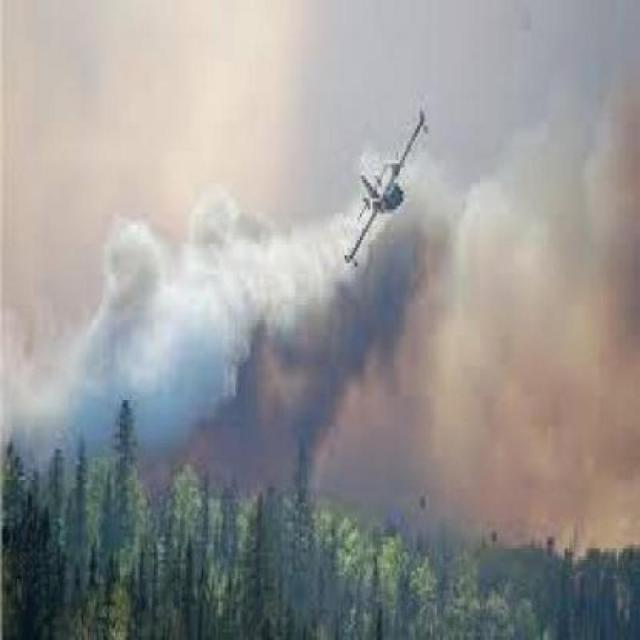Smoke: (410, 312, 640, 560), (105, 269, 328, 519)
